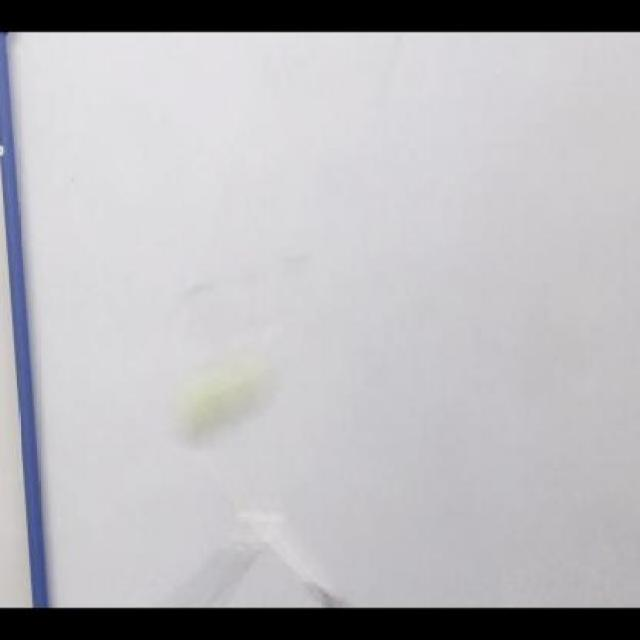baseball: (166, 344, 276, 448)
